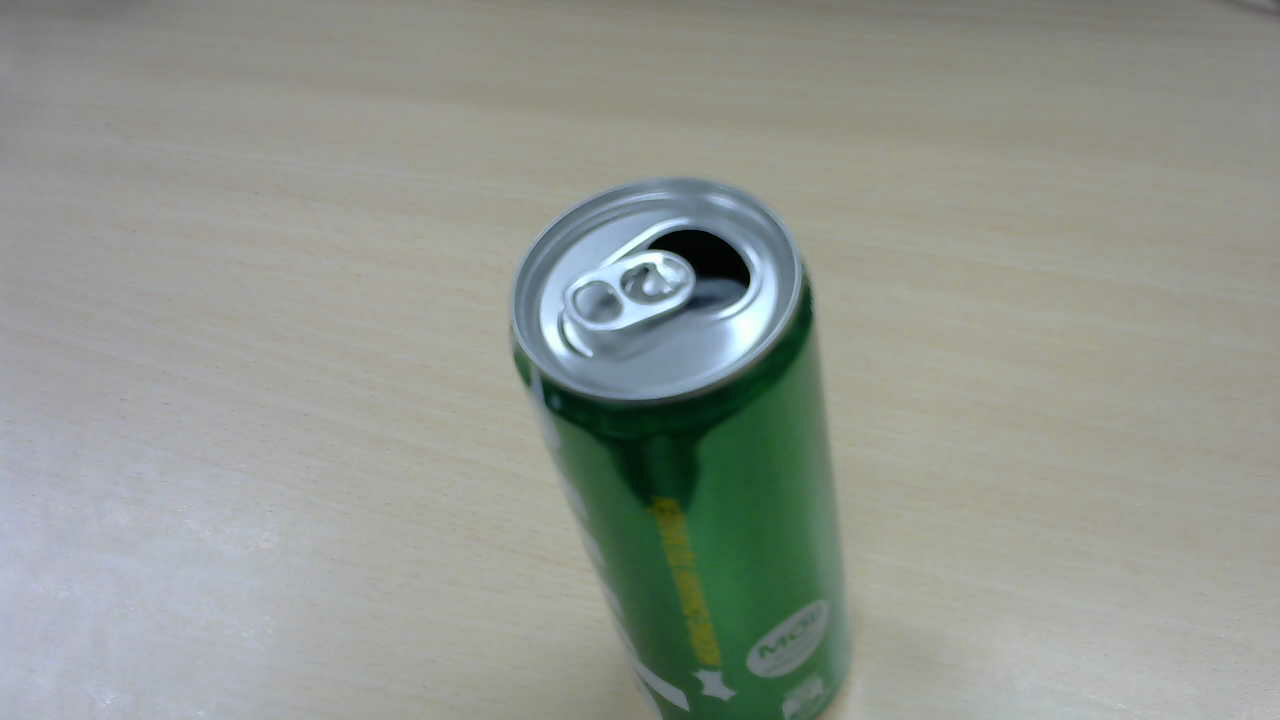Sprite: (511, 183, 861, 698)
